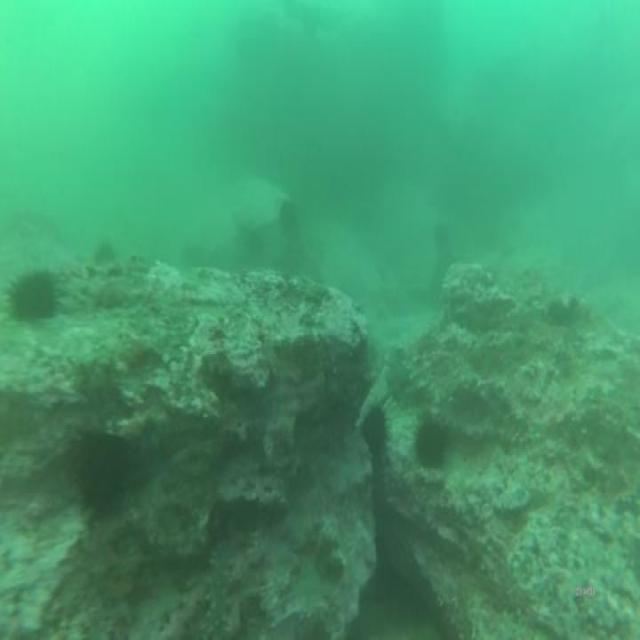echinus: (74, 430, 128, 512), (9, 274, 54, 322), (416, 420, 446, 470), (362, 409, 386, 452)
holothurian: (206, 544, 231, 635)
